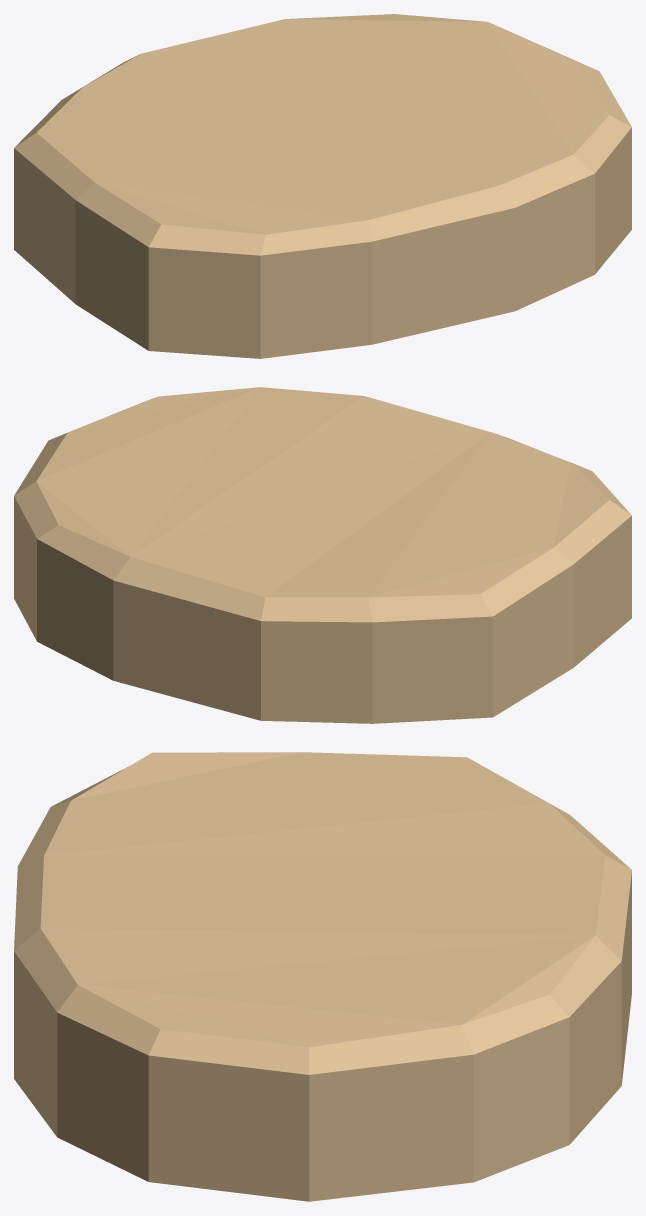
The model's file is terrace_stone_slab.fbx.
3 views of the same model, one above another, from view 1: azimuth 30°, elevation 25°; view 2: azimuth 150°, elevation 25°; view 3: azimuth 270°, elevation 25° (orthographic). The views are drawn at different scales.
Visible parts, largest first — view 1: Terrace_Stone_Slab; view 2: Terrace_Stone_Slab; view 3: Terrace_Stone_Slab.
Part boxes in pixels (<box>): Terrace_Stone_Slab: <box>14,14,631,358</box>; Terrace_Stone_Slab: <box>14,387,631,723</box>; Terrace_Stone_Slab: <box>14,752,631,1201</box>.
Bounding box in the file's own units: 94.08 × 20.33 × 77.45.
